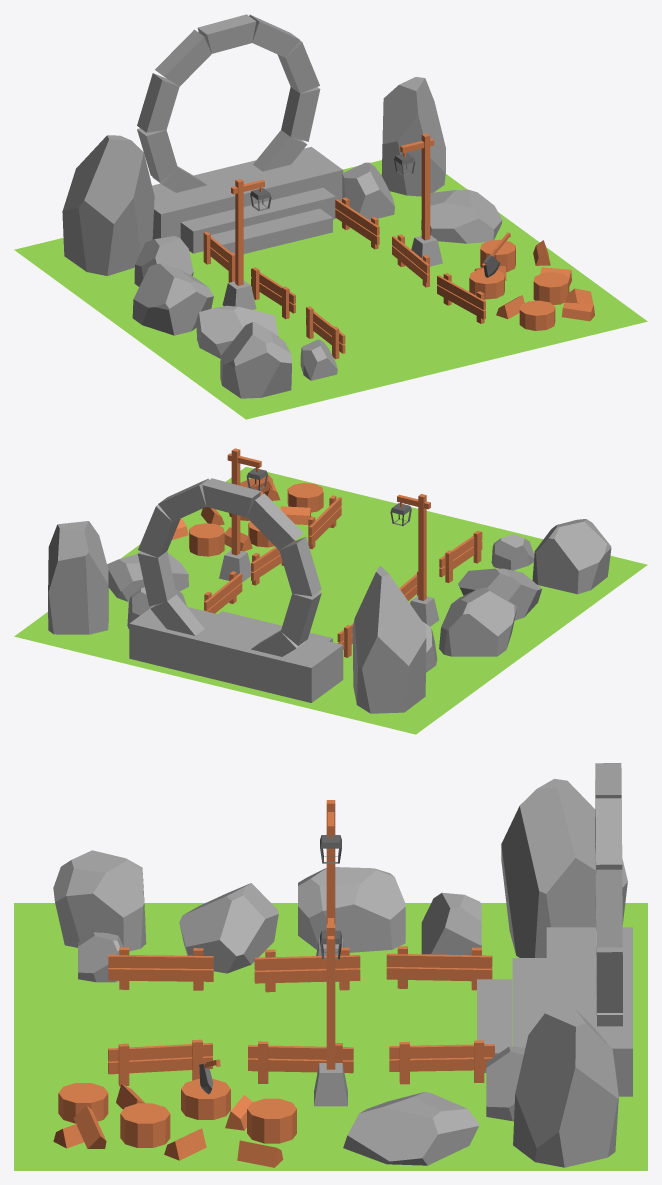
The model's file is portal.glb.
3 views of the same model, one above another, from view 1: azimuth 30°, elevation 25°; view 2: azimuth 150°, elevation 25°; view 3: azimuth 270°, elevation 25° (orthographic). The views are drawn at different scales.
Parts seen in each view (by area): view 1: Plane, Cube.015, Cube, Cube.023, Cube.020, Cube.016, Cube.018, Cube.035, Cube.036, Cube.019, Cube.012, Cube.014 (+24 smaller); view 2: Plane, Cube, Cube.015, Cube.023, Cube.020, Cube.016, Cube.019, Cube.018, Cube.031, Cube.032, Cube.028, Cube.010 (+19 smaller); view 3: Plane, Cube.023, Cube.015, Cube.016, Cube.020, Cube.018, Cube, Cube.019, Cube.014, Cube.013, Cube.004, Cube.001 (+21 smaller).
Boxes of the visible parts, box(x1,y1,x2,y2) form: Plane: box(14, 160, 647, 419); Cube.015: box(62, 135, 154, 275); Cube: box(152, 146, 343, 239); Cube.023: box(381, 77, 445, 196); Cube.020: box(220, 321, 291, 398); Cube.016: box(132, 263, 213, 335); Cube.018: box(421, 189, 502, 243); Cube.035: box(180, 187, 335, 253); Cube.036: box(211, 208, 332, 253); Cube.019: box(196, 305, 278, 358); Cube.012: box(342, 162, 394, 220); Cube.014: box(134, 236, 193, 286); Plane: box(14, 467, 647, 734); Cube: box(129, 604, 343, 702); Cube.015: box(352, 565, 426, 713); Cube.023: box(48, 521, 108, 634); Cube.020: box(532, 519, 611, 594); Cube.016: box(439, 587, 517, 656); Cube.019: box(458, 568, 541, 620); Cube.018: box(107, 553, 188, 601); Cube.031: box(247, 493, 303, 550); Cube.032: box(279, 537, 321, 596); Cube.028: box(202, 478, 261, 517); Cube.010: box(137, 551, 176, 606); Plane: box(14, 903, 647, 1170); Cube.023: box(513, 1009, 618, 1167); Cube.015: box(501, 778, 627, 957); Cube.016: box(298, 867, 405, 952); Cube.020: box(53, 850, 146, 951); Cube.018: box(343, 1091, 479, 1165); Cube: box(546, 927, 632, 1096); Cube.019: box(179, 883, 278, 973); Cube.014: box(421, 892, 481, 955); Cube.013: box(108, 947, 213, 990); Cube.004: box(386, 946, 492, 990); Cube.001: box(389, 1040, 494, 1084).
Size of the model in its own units: 4 by 1.79 by 4.
